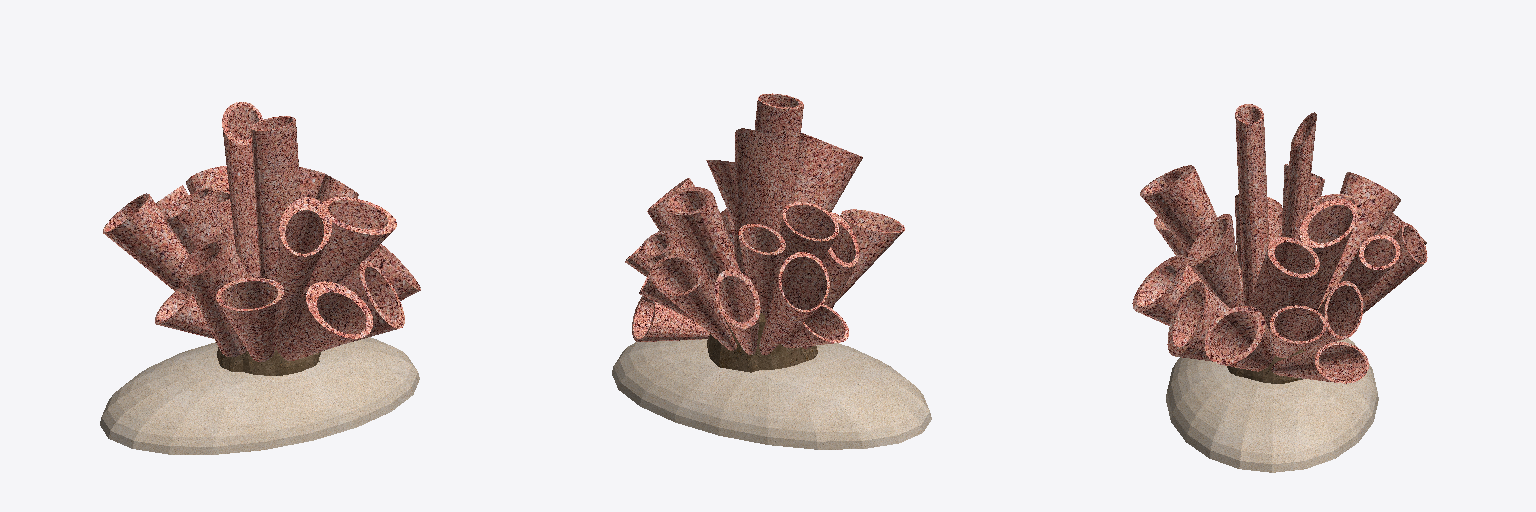
3 views of the same model, side by side, from view 1: azimuth 30°, elevation 25°; view 2: azimuth 150°, elevation 25°; view 3: azimuth 270°, elevation 25° (orthographic).
Parts seen in each view (by area): view 1: coral2:group12_pasted__polySurface8; view 2: coral2:group12_pasted__polySurface8; view 3: coral2:group12_pasted__polySurface8.
Part boxes in pixels (left/top/right/bottom): coral2:group12_pasted__polySurface8: left=100, top=102, right=420, bottom=454; coral2:group12_pasted__polySurface8: left=612, top=93, right=931, bottom=449; coral2:group12_pasted__polySurface8: left=1132, top=104, right=1427, bottom=472.
Bounding box in the file's own units: 2.67 × 2.42 × 2.26.
7 materials, 3 textured.